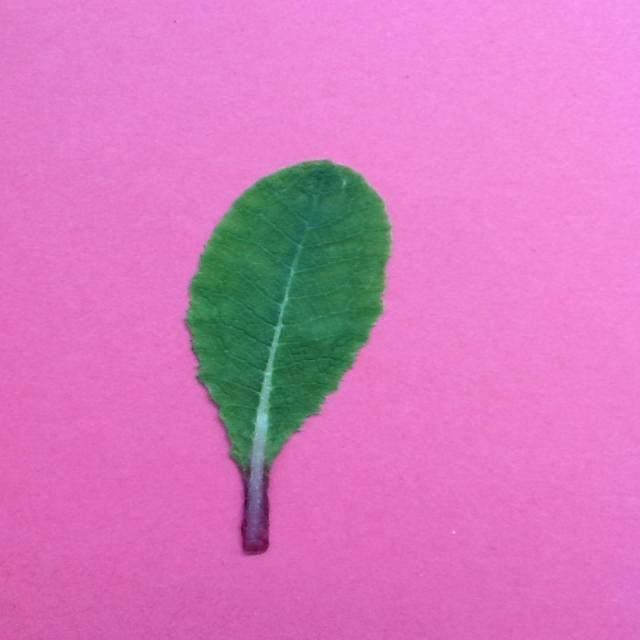foliage: (183, 157, 393, 555)
